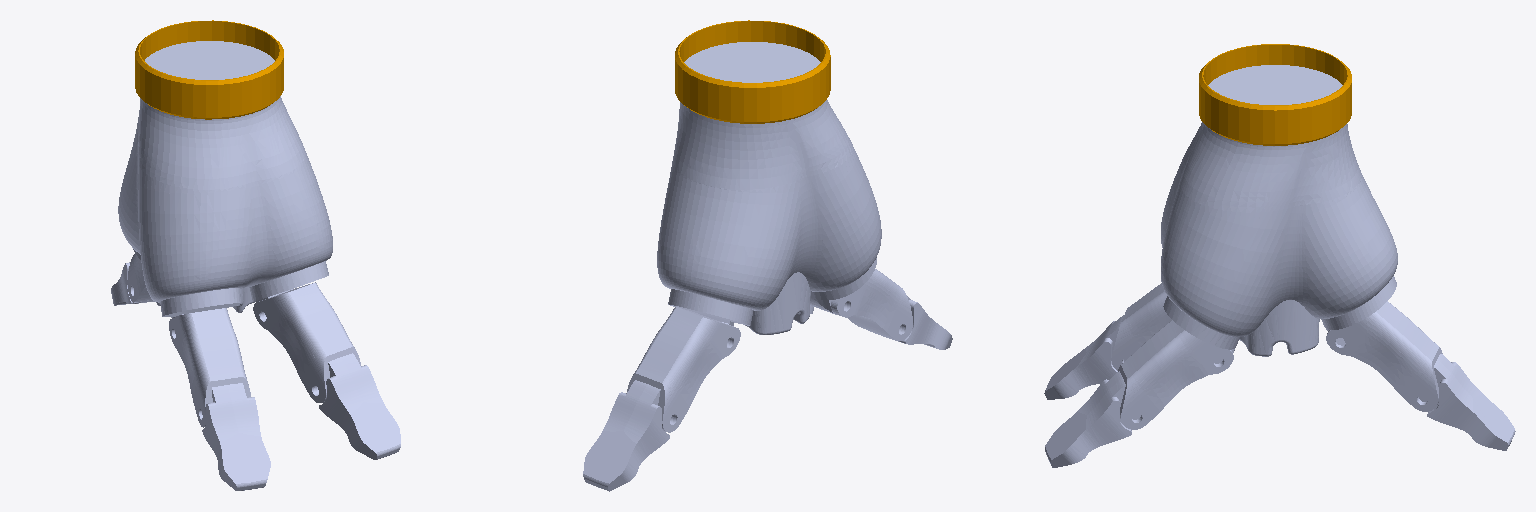
The robot description file, URDF, robot "j2s7s300_hand":
<?xml version="1.0"?>
<!-- =================================================================================== -->
<!-- |    This document is a hand edited version of the output                         | -->
<!-- |    autogenerated by xacro from j2s7s300_standalone.xacro                        | -->
<!-- =================================================================================== -->
<!-- j2s7s300 refers to jaco v2 7DOF spherical 3fingers -->
<robot name="j2s7s300_hand">
  <link name="hand_base">
    <visual>
      <geometry>
        <mesh filename="package://drake/manipulation/models/jaco_description/meshes/hand_3finger.obj"/>
      </geometry>
      <material name="carbon_fiber">
        <color rgba="0.792156862745098 0.819607843137255 0.933333333333333 1"/>
      </material>
    </visual>
    <visual>
      <geometry>
        <mesh filename="package://drake/manipulation/models/jaco_description/meshes/ring_small.obj"/>
      </geometry>
    </visual>
    <collision>
      <origin rpy="0 0 0" xyz="0 0 -0.03"/>
      <geometry>
        <sphere radius="0.045"/>
      </geometry>
    </collision>
    <collision>
      <origin rpy="0 0 0" xyz="0 0 -0.07"/>
      <geometry>
        <sphere radius="0.045"/>
      </geometry>
    </collision>
    <collision>
      <origin rpy="0 0 0" xyz="0 0.025 -0.07"/>
      <geometry>
        <sphere radius="0.03"/>
      </geometry>
    </collision>
    <collision>
      <origin rpy="0 0 0" xyz="0 0.025 -0.08"/>
      <geometry>
        <sphere radius="0.03"/>
      </geometry>
    </collision>
    <collision>
      <origin rpy="0 0 0" xyz="-0.02 -0.025 -0.07"/>
      <geometry>
        <sphere radius="0.03"/>
      </geometry>
    </collision>
    <collision>
      <origin rpy="0 0 0" xyz="-0.02 -0.025 -0.08"/>
      <geometry>
        <sphere radius="0.03"/>
      </geometry>
    </collision>
    <collision>
      <origin rpy="0 0 0" xyz="0.02 -0.025 -0.07"/>
      <geometry>
        <sphere radius="0.03"/>
      </geometry>
    </collision>
    <collision>
      <origin rpy="0 0 0" xyz="0.02 -0.025 -0.08"/>
      <geometry>
        <sphere radius="0.03"/>
      </geometry>
    </collision>
    <inertial>
      <mass value="0.727"/>
      <origin xyz="0 0 -0.06"/>
      <inertia ixx="0.0003453236187" ixy="0" ixz="0" iyy="0.0003453236187" iyz="0" izz="0.0005816"/>
    </inertial>
  </link>
  <link name="j2s7s300_end_effector">
    <visual>
      <geometry>
        <sphere radius="0"/>
      </geometry>
    </visual>
    <collision>
      <geometry>
        <sphere radius="0"/>
      </geometry>
    </collision>
  </link>
  <joint name="j2s7s300_joint_end_effector" type="fixed">
    <parent link="hand_base"/>
    <child link="j2s7s300_end_effector"/>
    <axis xyz="0 0 0"/>
    <limit effort="2000" lower="0" upper="0" velocity="1"/>
    <origin rpy="3.14159265359 0 0" xyz="0 0 -0.1600"/>
  </joint>
  <link name="j2s7s300_link_finger_1">
    <visual>
      <geometry>
        <mesh filename="package://drake/manipulation/models/jaco_description/meshes/finger_proximal.obj"/>
      </geometry>
      <material name="carbon_fiber">
        <color rgba="0.792156862745098 0.819607843137255 0.933333333333333 1"/>
      </material>
    </visual>
    <collision>
      <origin rpy="0 0 0" xyz="0.01 -0.01 0.0"/>
      <geometry>
        <sphere radius="0.014"/>
      </geometry>
    </collision>
    <collision>
      <origin rpy="0 0 0" xyz="0.02 -0.01 0.0"/>
      <geometry>
        <sphere radius="0.014"/>
      </geometry>
    </collision>
    <collision>
      <origin rpy="0 0 0" xyz="0.03 -0.01 0.0"/>
      <geometry>
        <sphere radius="0.014"/>
      </geometry>
    </collision>
    <collision>
      <origin rpy="0 0 0" xyz="0.04 -0.007 0.0"/>
      <geometry>
        <sphere radius="0.013"/>
      </geometry>
    </collision>
    <inertial>
      <mass value="0.01"/>
      <origin xyz="0.022 0 0"/>
      <inertia ixx="7.8999684e-07" ixy="0" ixz="0" iyy="7.8999684e-07" iyz="0" izz="8e-08"/>
    </inertial>
  </link>
  <joint name="j2s7s300_joint_finger_1" type="revolute">
    <parent link="hand_base"/>
    <child link="j2s7s300_link_finger_1"/>
    <axis xyz="0 0 1"/>
    <origin rpy="-1.570796327 .649262481663582 1.35961148639407" xyz="0.00279 0.03126 -0.11467"/>
    <limit effort="2000" lower="0" upper="2" velocity="1"/>
  </joint>
  <transmission name="j2s7s300_joint_finger_1_trans">
    <type>transmission_interface/SimpleTransmission</type>
    <joint name="j2s7s300_joint_finger_1">
    </joint>
    <actuator name="j2s7s300_joint_finger_1_actuator">
      <mechanicalReduction>1</mechanicalReduction>
    </actuator>
  </transmission>
  <link name="j2s7s300_link_finger_tip_1">
    <visual>
      <geometry>
        <mesh filename="package://drake/manipulation/models/jaco_description/meshes/finger_distal.obj"/>
      </geometry>
      <material name="carbon_fiber">
        <color rgba="0.792156862745098 0.819607843137255 0.933333333333333 1"/>
      </material>
    </visual>
    <collision>
      <origin rpy="0 0 0" xyz="0.01 -0.005 0.005"/>
      <geometry>
        <sphere radius="0.01"/>
      </geometry>
    </collision>
    <collision>
      <origin rpy="0 0 0" xyz="0.01 -0.005 -0.005"/>
      <geometry>
        <sphere radius="0.01"/>
      </geometry>
    </collision>
    <collision>
      <origin rpy="0 0 0" xyz="0.02 -0.005 0.005"/>
      <geometry>
        <sphere radius="0.01"/>
      </geometry>
    </collision>
    <collision>
      <origin rpy="0 0 0" xyz="0.02 -0.005 -0.005"/>
      <geometry>
        <sphere radius="0.01"/>
      </geometry>
    </collision>
    <collision>
      <origin rpy="0 0 0" xyz="0.035 -0.005 -0.00"/>
      <geometry>
        <sphere radius="0.01"/>
      </geometry>
    </collision>
    <inertial>
      <mass value="0.01"/>
      <origin xyz="0.022 0 0"/>
      <inertia ixx="7.8999684e-07" ixy="0" ixz="0" iyy="7.8999684e-07" iyz="0" izz="8e-08"/>
    </inertial>
  </link>
  <joint name="j2s7s300_joint_finger_tip_1" type="fixed">
    <parent link="j2s7s300_link_finger_1"/>
    <child link="j2s7s300_link_finger_tip_1"/>
    <axis xyz="0 0 1"/>
    <origin rpy="0 0 0" xyz="0.044 -0.003 0"/>
    <limit effort="2000" lower="0" upper="2" velocity="1"/>
  </joint>
  <link name="j2s7s300_link_finger_2">
    <visual>
      <geometry>
        <mesh filename="package://drake/manipulation/models/jaco_description/meshes/finger_proximal.obj"/>
      </geometry>
      <material name="carbon_fiber">
        <color rgba="0.792156862745098 0.819607843137255 0.933333333333333 1"/>
      </material>
    </visual>
    <collision>
      <origin rpy="0 0 0" xyz="0.01 -0.01 0.0"/>
      <geometry>
        <sphere radius="0.014"/>
      </geometry>
    </collision>
    <collision>
      <origin rpy="0 0 0" xyz="0.02 -0.01 0.0"/>
      <geometry>
        <sphere radius="0.014"/>
      </geometry>
    </collision>
    <collision>
      <origin rpy="0 0 0" xyz="0.03 -0.01 0.0"/>
      <geometry>
        <sphere radius="0.014"/>
      </geometry>
    </collision>
    <collision>
      <origin rpy="0 0 0" xyz="0.04 -0.007 0.0"/>
      <geometry>
        <sphere radius="0.013"/>
      </geometry>
    </collision>
    <inertial>
      <mass value="0.01"/>
      <origin xyz="0.022 0 0"/>
      <inertia ixx="7.8999684e-07" ixy="0" ixz="0" iyy="7.8999684e-07" iyz="0" izz="8e-08"/>
    </inertial>
  </link>
  <joint name="j2s7s300_joint_finger_2" type="revolute">
    <parent link="hand_base"/>
    <child link="j2s7s300_link_finger_2"/>
    <axis xyz="0 0 1"/>
    <origin rpy="-1.570796327 .649262481663582 -1.38614049188413" xyz="0.02226 -0.02707 -0.11482"/>
    <limit effort="2000" lower="0" upper="2" velocity="1"/>
  </joint>
  <transmission name="j2s7s300_joint_finger_2_trans">
    <type>transmission_interface/SimpleTransmission</type>
    <joint name="j2s7s300_joint_finger_2">
    </joint>
    <actuator name="j2s7s300_joint_finger_2_actuator">
      <mechanicalReduction>1</mechanicalReduction>
    </actuator>
  </transmission>
  <link name="j2s7s300_link_finger_tip_2">
    <visual>
      <geometry>
        <mesh filename="package://drake/manipulation/models/jaco_description/meshes/finger_distal.obj"/>
      </geometry>
      <material name="carbon_fiber">
        <color rgba="0.792156862745098 0.819607843137255 0.933333333333333 1"/>
      </material>
    </visual>
    <collision>
      <origin rpy="0 0 0" xyz="0.01 -0.005 0.005"/>
      <geometry>
        <sphere radius="0.01"/>
      </geometry>
    </collision>
    <collision>
      <origin rpy="0 0 0" xyz="0.01 -0.005 -0.005"/>
      <geometry>
        <sphere radius="0.01"/>
      </geometry>
    </collision>
    <collision>
      <origin rpy="0 0 0" xyz="0.02 -0.005 0.005"/>
      <geometry>
        <sphere radius="0.01"/>
      </geometry>
    </collision>
    <collision>
      <origin rpy="0 0 0" xyz="0.02 -0.005 -0.005"/>
      <geometry>
        <sphere radius="0.01"/>
      </geometry>
    </collision>
    <collision>
      <origin rpy="0 0 0" xyz="0.035 -0.005 -0.00"/>
      <geometry>
        <sphere radius="0.01"/>
      </geometry>
    </collision>
    <inertial>
      <mass value="0.01"/>
      <origin xyz="0.022 0 0"/>
      <inertia ixx="7.8999684e-07" ixy="0" ixz="0" iyy="7.8999684e-07" iyz="0" izz="8e-08"/>
    </inertial>
  </link>
  <joint name="j2s7s300_joint_finger_tip_2" type="fixed">
    <parent link="j2s7s300_link_finger_2"/>
    <child link="j2s7s300_link_finger_tip_2"/>
    <axis xyz="0 0 1"/>
    <origin rpy="0 0 0" xyz="0.044 -0.003 0"/>
    <limit effort="2000" lower="0" upper="2" velocity="1"/>
  </joint>
  <link name="j2s7s300_link_finger_3">
    <visual>
      <geometry>
        <mesh filename="package://drake/manipulation/models/jaco_description/meshes/finger_proximal.obj"/>
      </geometry>
      <material name="carbon_fiber">
        <color rgba="0.792156862745098 0.819607843137255 0.933333333333333 1"/>
      </material>
    </visual>
    <collision>
      <origin rpy="0 0 0" xyz="0.01 -0.01 0.0"/>
      <geometry>
        <sphere radius="0.014"/>
      </geometry>
    </collision>
    <collision>
      <origin rpy="0 0 0" xyz="0.02 -0.01 0.0"/>
      <geometry>
        <sphere radius="0.014"/>
      </geometry>
    </collision>
    <collision>
      <origin rpy="0 0 0" xyz="0.03 -0.01 0.0"/>
      <geometry>
        <sphere radius="0.014"/>
      </geometry>
    </collision>
    <collision>
      <origin rpy="0 0 0" xyz="0.04 -0.007 0.0"/>
      <geometry>
        <sphere radius="0.013"/>
      </geometry>
    </collision>
    <inertial>
      <mass value="0.01"/>
      <origin xyz="0.022 0 0"/>
      <inertia ixx="7.8999684e-07" ixy="0" ixz="0" iyy="7.8999684e-07" iyz="0" izz="8e-08"/>
    </inertial>
  </link>
  <joint name="j2s7s300_joint_finger_3" type="revolute">
    <parent link="hand_base"/>
    <child link="j2s7s300_link_finger_3"/>
    <axis xyz="0 0 1"/>
    <origin rpy="-1.570796327 .649262481663582 -1.75545216211587" xyz="-0.02226 -0.02707 -0.11482"/>
    <limit effort="2000" lower="0" upper="2" velocity="1"/>
  </joint>
  <transmission name="j2s7s300_joint_finger_3_trans">
    <type>transmission_interface/SimpleTransmission</type>
    <joint name="j2s7s300_joint_finger_3">
    </joint>
    <actuator name="j2s7s300_joint_finger_3_actuator">
      <mechanicalReduction>1</mechanicalReduction>
    </actuator>
  </transmission>
  <link name="j2s7s300_link_finger_tip_3">
    <visual>
      <geometry>
        <mesh filename="package://drake/manipulation/models/jaco_description/meshes/finger_distal.obj"/>
      </geometry>
      <material name="carbon_fiber">
        <color rgba="0.792156862745098 0.819607843137255 0.933333333333333 1"/>
      </material>
    </visual>
    <collision>
      <origin rpy="0 0 0" xyz="0.01 -0.005 0.005"/>
      <geometry>
        <sphere radius="0.01"/>
      </geometry>
    </collision>
    <collision>
      <origin rpy="0 0 0" xyz="0.01 -0.005 -0.005"/>
      <geometry>
        <sphere radius="0.01"/>
      </geometry>
    </collision>
    <collision>
      <origin rpy="0 0 0" xyz="0.02 -0.005 0.005"/>
      <geometry>
        <sphere radius="0.01"/>
      </geometry>
    </collision>
    <collision>
      <origin rpy="0 0 0" xyz="0.02 -0.005 -0.005"/>
      <geometry>
        <sphere radius="0.01"/>
      </geometry>
    </collision>
    <collision>
      <origin rpy="0 0 0" xyz="0.035 -0.005 -0.00"/>
      <geometry>
        <sphere radius="0.01"/>
      </geometry>
    </collision>
    <inertial>
      <mass value="0.01"/>
      <origin xyz="0.022 0 0"/>
      <inertia ixx="7.8999684e-07" ixy="0" ixz="0" iyy="7.8999684e-07" iyz="0" izz="8e-08"/>
    </inertial>
  </link>
  <joint name="j2s7s300_joint_finger_tip_3" type="fixed">
    <parent link="j2s7s300_link_finger_3"/>
    <child link="j2s7s300_link_finger_tip_3"/>
    <axis xyz="0 0 1"/>
    <origin rpy="0 0 0" xyz="0.044 -0.003 0"/>
    <limit effort="2000" lower="0" upper="2" velocity="1"/>
  </joint>
</robot>

--- Render facts (derived) ---
3 views of the same robot in one strip: view 1: azimuth 30°, elevation 25°; view 2: azimuth 150°, elevation 25°; view 3: azimuth 270°, elevation 25° (orthographic).
Model j2s7s300_hand with 8 links and 7 joints (3 revolute, 4 fixed), rooted at hand_base, posed every joint at zero.
Visible links, largest first — view 1: hand_base, j2s7s300_link_finger_2, j2s7s300_link_finger_3, j2s7s300_link_finger_tip_3, j2s7s300_link_finger_tip_2, j2s7s300_link_finger_1, j2s7s300_link_finger_tip_1; view 2: hand_base, j2s7s300_link_finger_1, j2s7s300_link_finger_tip_1, j2s7s300_link_finger_3, j2s7s300_link_finger_tip_3; view 3: hand_base, j2s7s300_link_finger_2, j2s7s300_link_finger_1, j2s7s300_link_finger_tip_1, j2s7s300_link_finger_tip_2, j2s7s300_link_finger_tip_3, j2s7s300_link_finger_3.
Boxes of the visible links, bbox=[...] form: hand_base: bbox=[118, 20, 332, 317]; j2s7s300_link_finger_2: bbox=[253, 282, 360, 402]; j2s7s300_link_finger_3: bbox=[169, 308, 250, 427]; j2s7s300_link_finger_tip_3: bbox=[202, 383, 270, 490]; j2s7s300_link_finger_tip_2: bbox=[319, 353, 400, 459]; j2s7s300_link_finger_1: bbox=[127, 254, 151, 302]; j2s7s300_link_finger_tip_1: bbox=[111, 262, 154, 305]; hand_base: bbox=[657, 20, 881, 334]; j2s7s300_link_finger_1: bbox=[626, 307, 740, 432]; j2s7s300_link_finger_tip_1: bbox=[583, 380, 669, 491]; j2s7s300_link_finger_3: bbox=[831, 269, 912, 340]; j2s7s300_link_finger_tip_3: bbox=[868, 296, 952, 349]; hand_base: bbox=[1161, 44, 1397, 356]; j2s7s300_link_finger_2: bbox=[1118, 320, 1233, 429]; j2s7s300_link_finger_1: bbox=[1326, 301, 1442, 411]; j2s7s300_link_finger_tip_1: bbox=[1427, 354, 1515, 450]; j2s7s300_link_finger_tip_2: bbox=[1045, 371, 1131, 467]; j2s7s300_link_finger_tip_3: bbox=[1044, 315, 1123, 399]; j2s7s300_link_finger_3: bbox=[1111, 283, 1171, 370].
Size in the robot's own frame: 0.0927 by 0.2083 by 0.1722 metres.
8 mesh visuals loaded from 4 distinct referenced files (4 OBJ).
